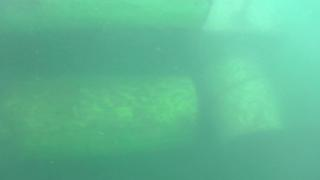pipe: (1, 74, 201, 167), (207, 54, 288, 143), (1, 1, 215, 34)
